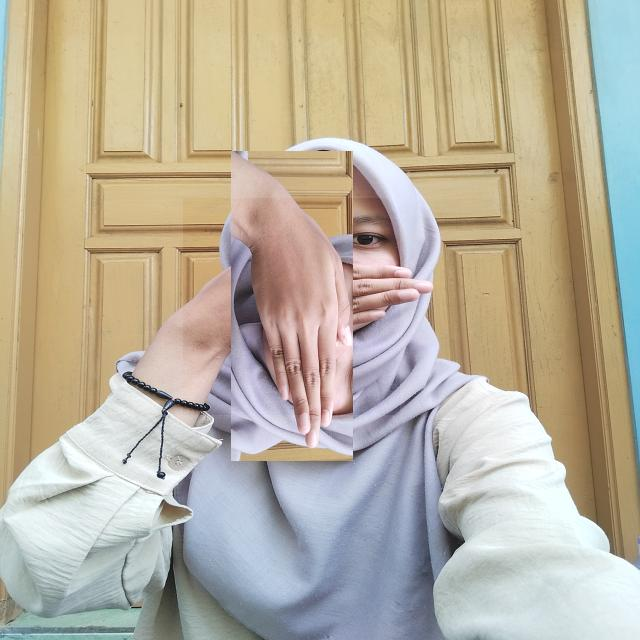buruk: (183, 198, 400, 415)
